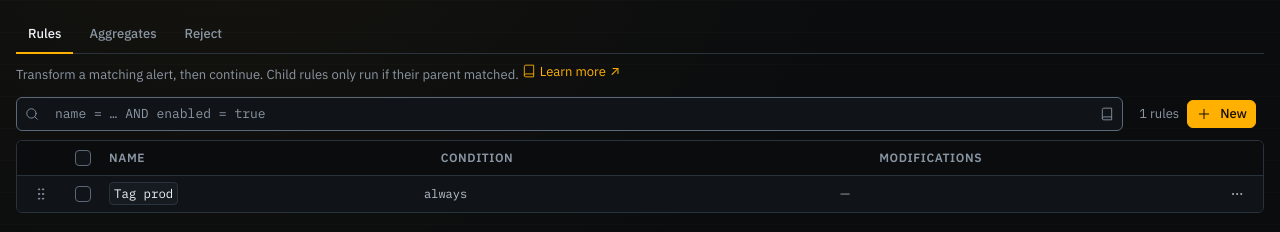
Test: RulesPage › Rules tab: selecting a row switches the toolbar to the amber bulk-actions chip
Expected: the text "Tag prod" is shown, [109,182,178,205]
Click the checkbox named "select rule tag prod".
click(83, 194)  # box [75,186,91,202]
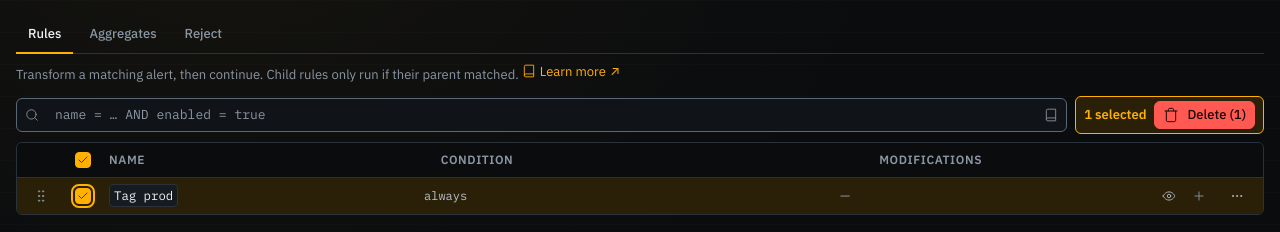
Result: the element named "bulk actions" is shown at [1075,96,1264,134]
Result: the text "1 selected" is shown at [1084,105,1146,124]
